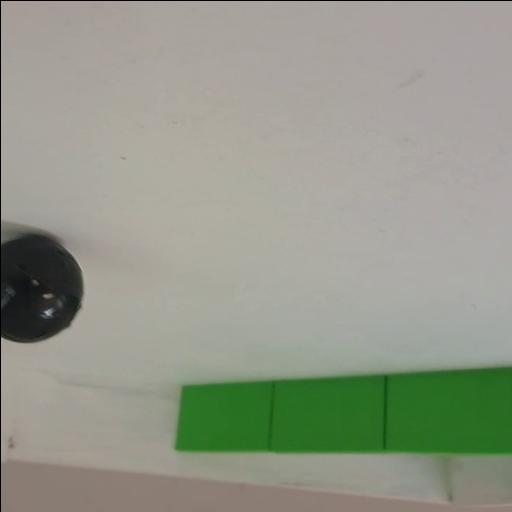dead: (0, 234, 82, 344)
